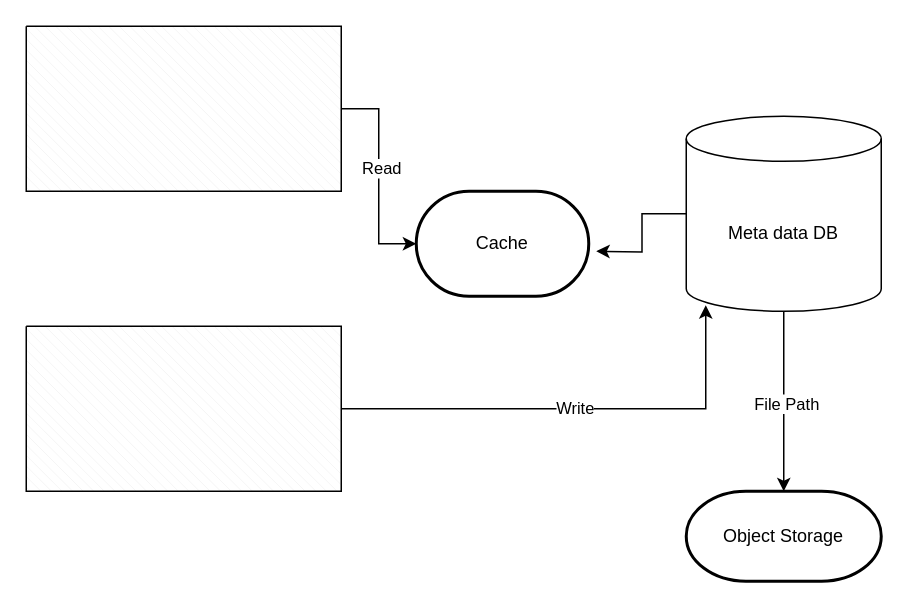
This 909x609 diagram has some shape labels left out. Each missing label, with the box of its shape:
App Server: (25, 25, 341, 191)
App Server (write/upload): (25, 325, 341, 491)
